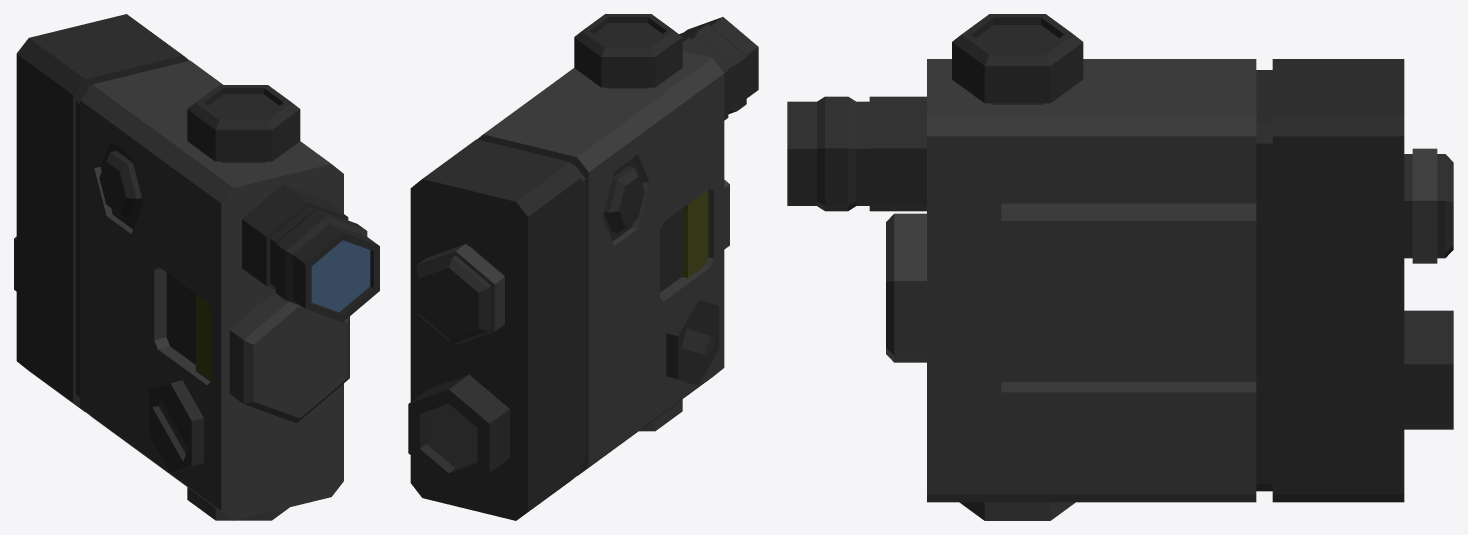
File: Laser_C_Right.fbx
3 renders of one model, left to right at view 1: azimuth 30°, elevation 25°; view 2: azimuth 150°, elevation 25°; view 3: azimuth 270°, elevation 25°, orthographic. The views are drawn at different scales.
Visible parts, largest first — view 1: Laser_C_Right; view 2: Laser_C_Right; view 3: Laser_C_Right.
Part boxes in pixels (x1,y1,x2,y2): Laser_C_Right: [14, 14, 379, 520]; Laser_C_Right: [408, 14, 758, 520]; Laser_C_Right: [787, 14, 1453, 520].
Bounding box in the file's own units: 0.0338 × 0.0775 × 0.1013.
